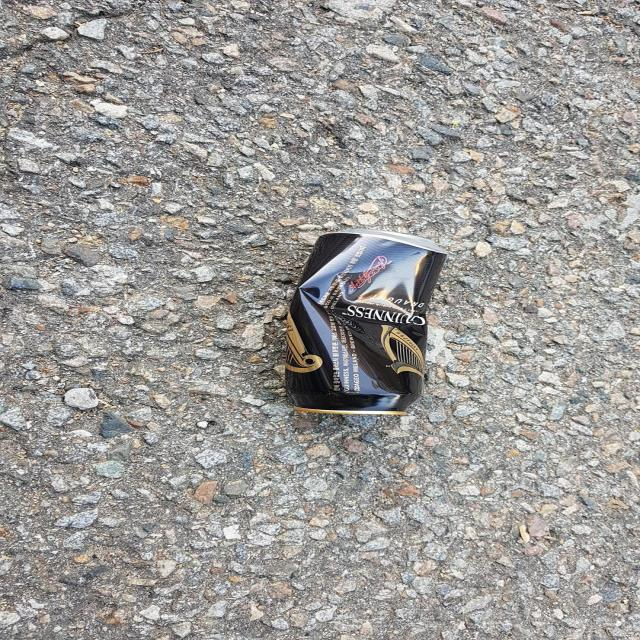can: (286, 229, 446, 415)
